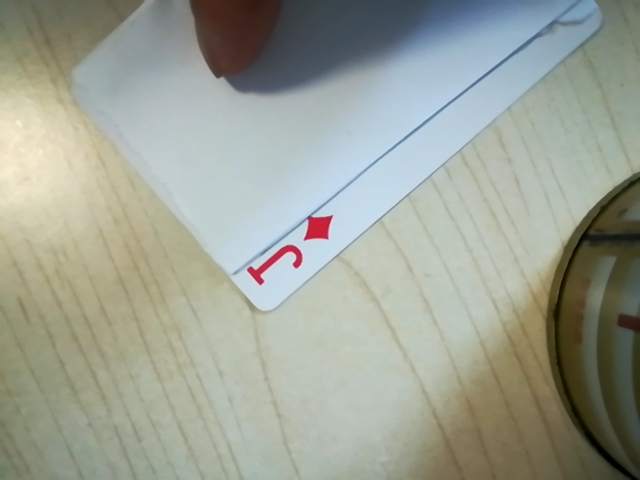fk j: (238, 208, 338, 290)
